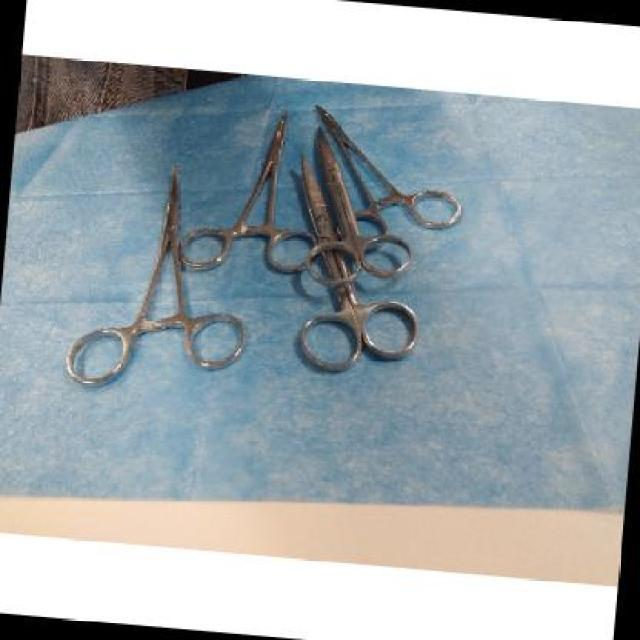Monitor: (43, 89, 483, 429)
